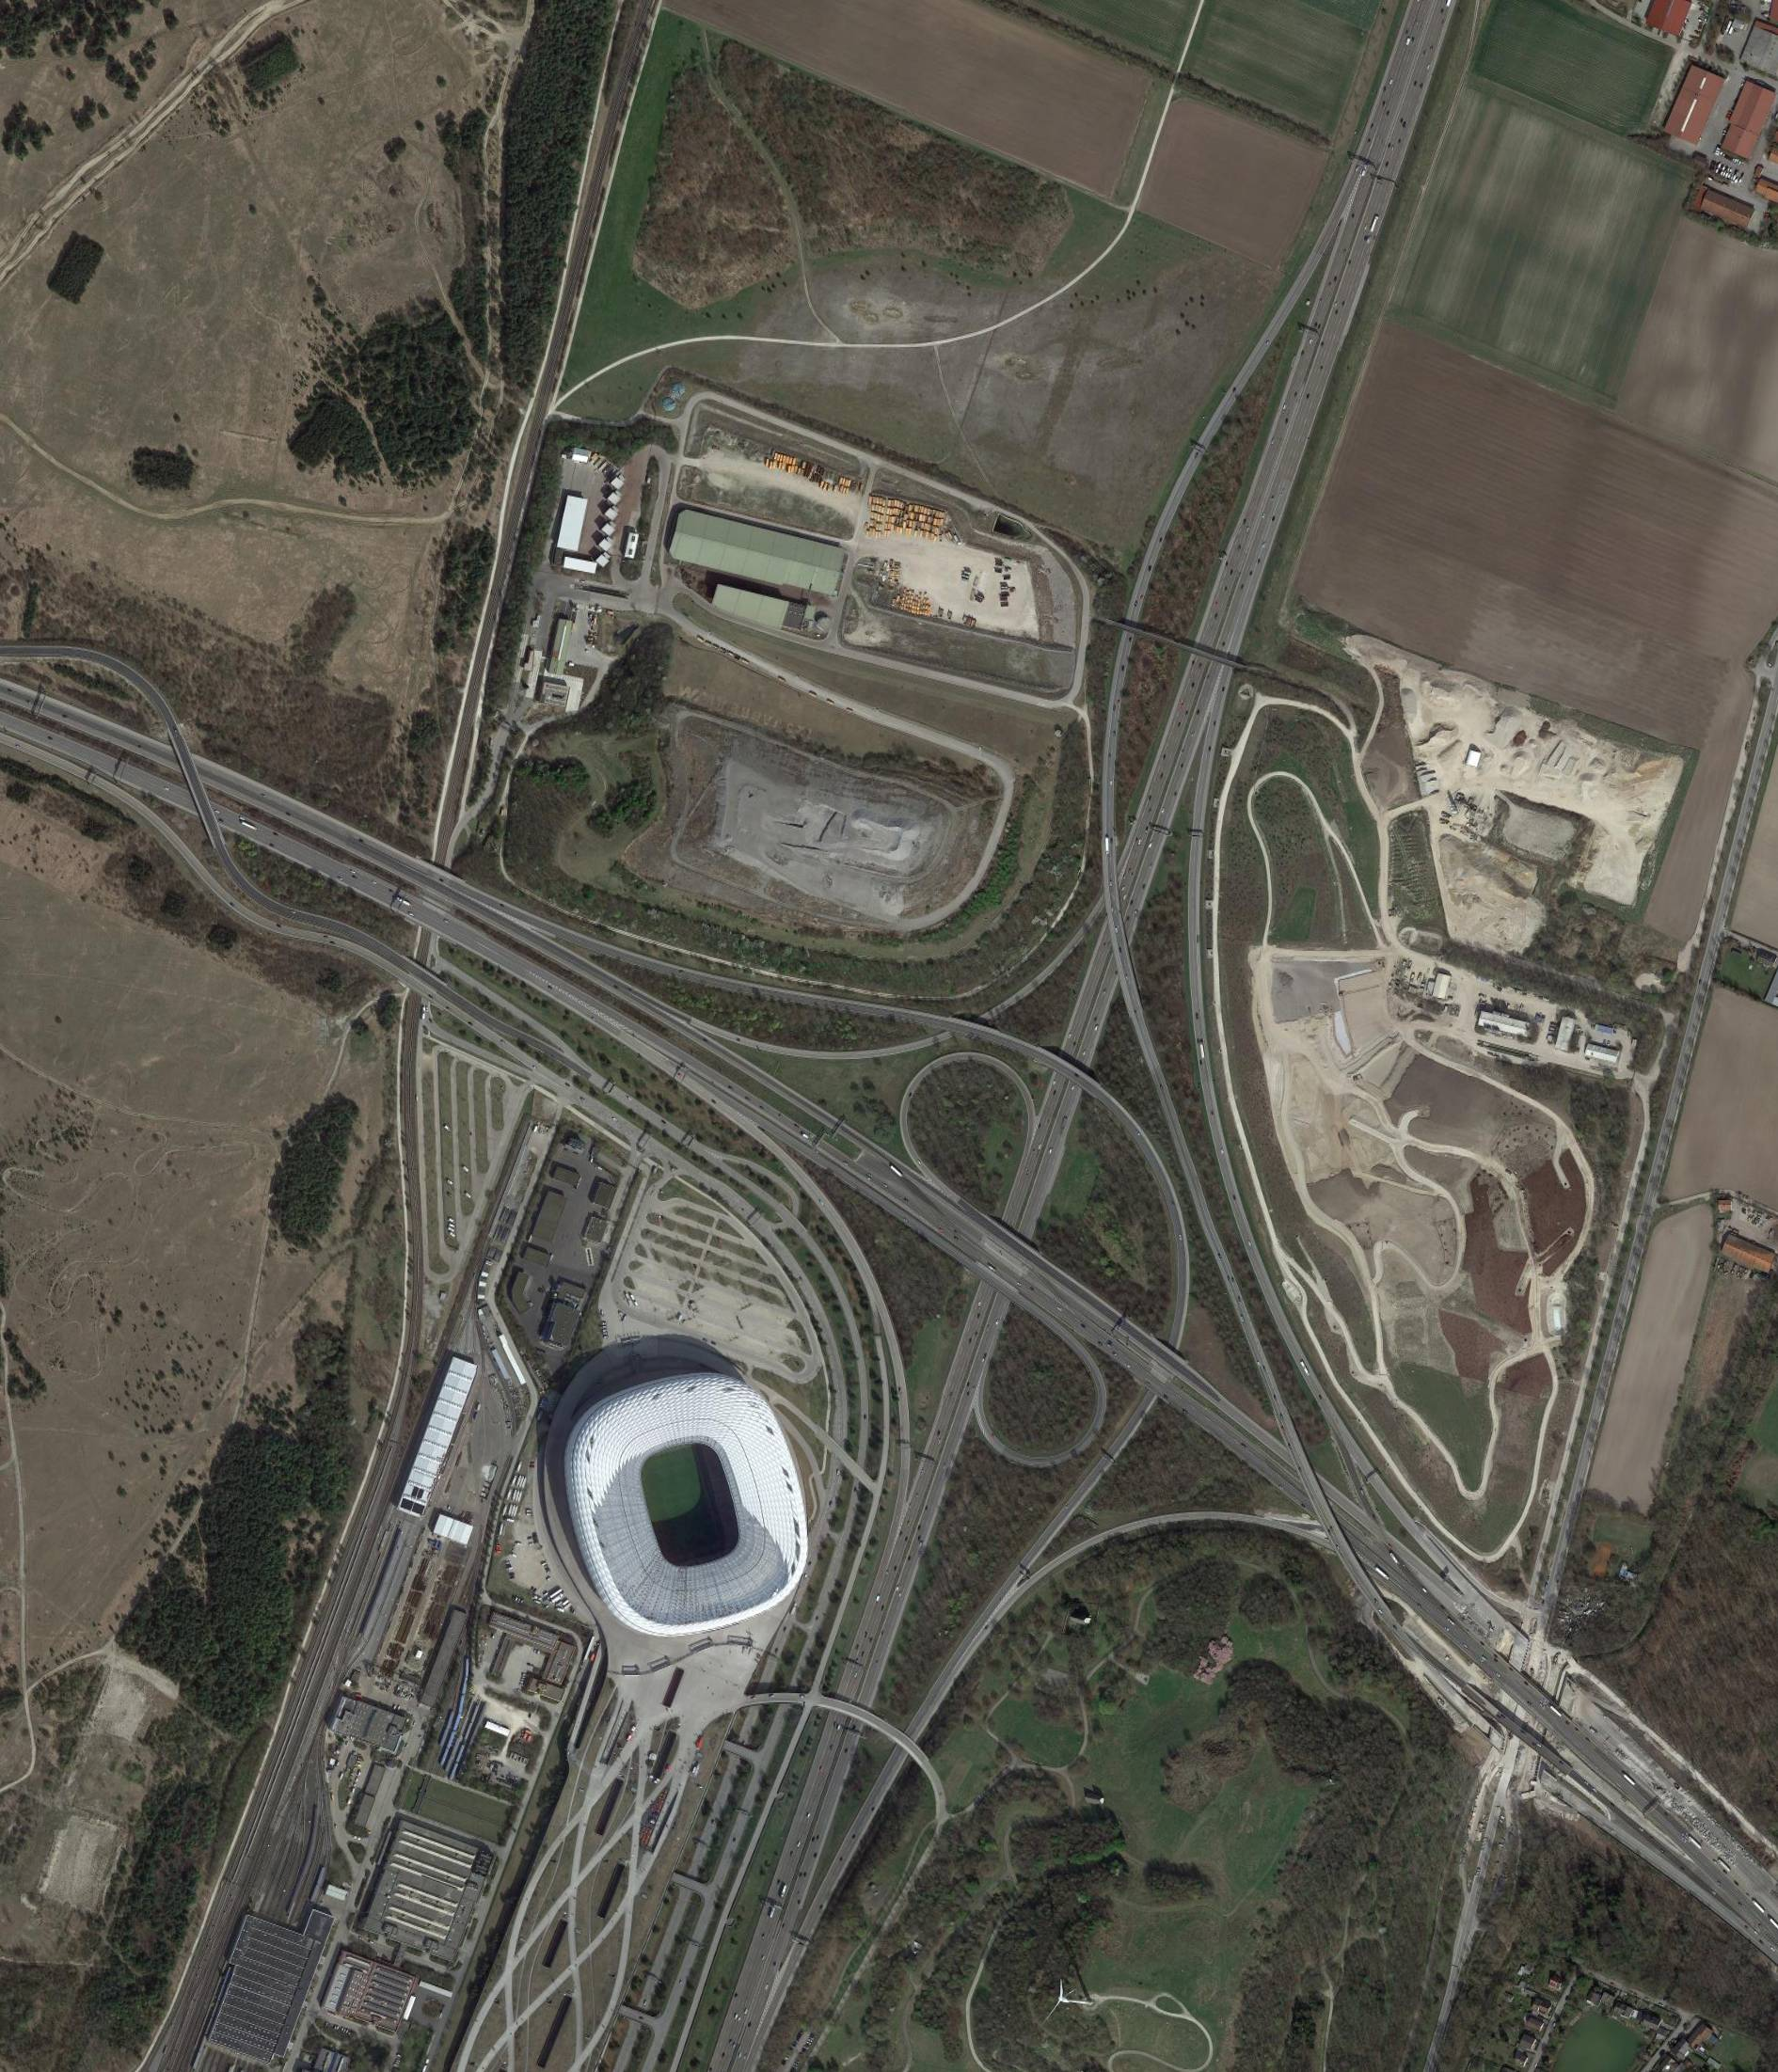soccer ball field: (636, 1439, 749, 1573)
